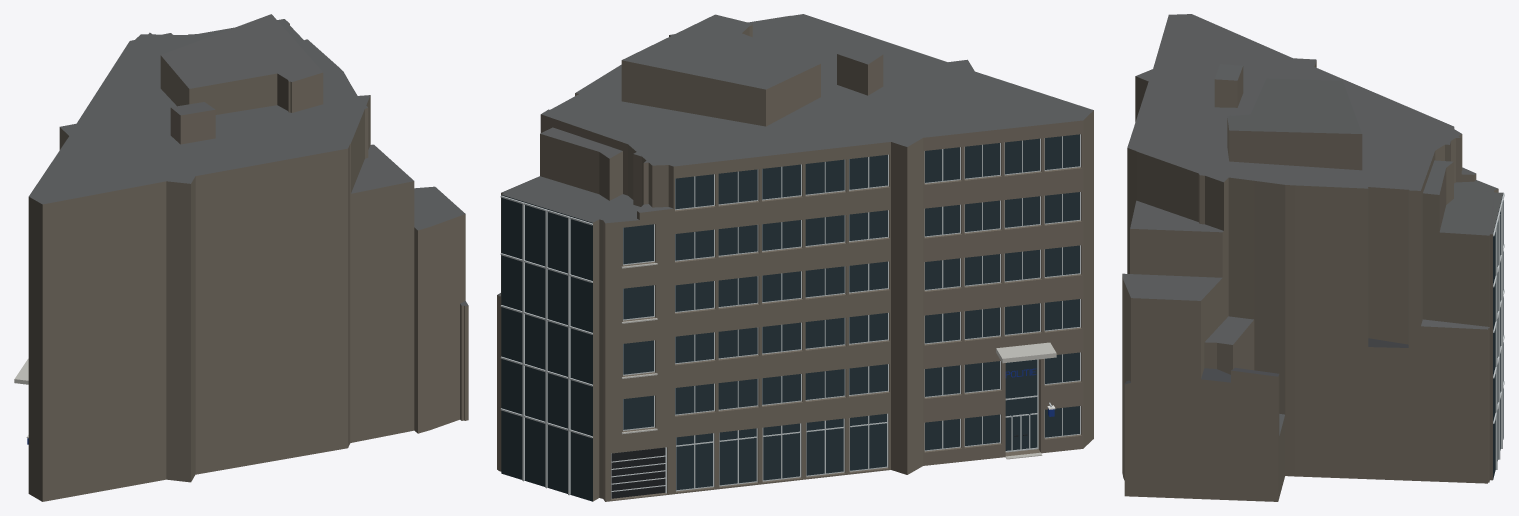
Rendered from recipe-large-politie-nieuwezijds-voorburgwal.glb.
3 views of the same model, side by side, from view 1: azimuth 30°, elevation 25°; view 2: azimuth 150°, elevation 25°; view 3: azimuth 270°, elevation 25° (orthographic). The views are drawn at different scales.
Visible parts, largest first — view 1: politie-nieuwezijds-voorburgwal; view 2: politie-nieuwezijds-voorburgwal; view 3: politie-nieuwezijds-voorburgwal.
Boxes of the visible parts, x1,y1,x2,y2 form: politie-nieuwezijds-voorburgwal: (14, 14, 468, 501); politie-nieuwezijds-voorburgwal: (497, 14, 1093, 501); politie-nieuwezijds-voorburgwal: (1122, 14, 1504, 501).
Size of the model in its own units: 32.8 by 25.17 by 26.73.
